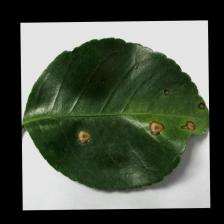canker: (75, 90, 213, 160)
